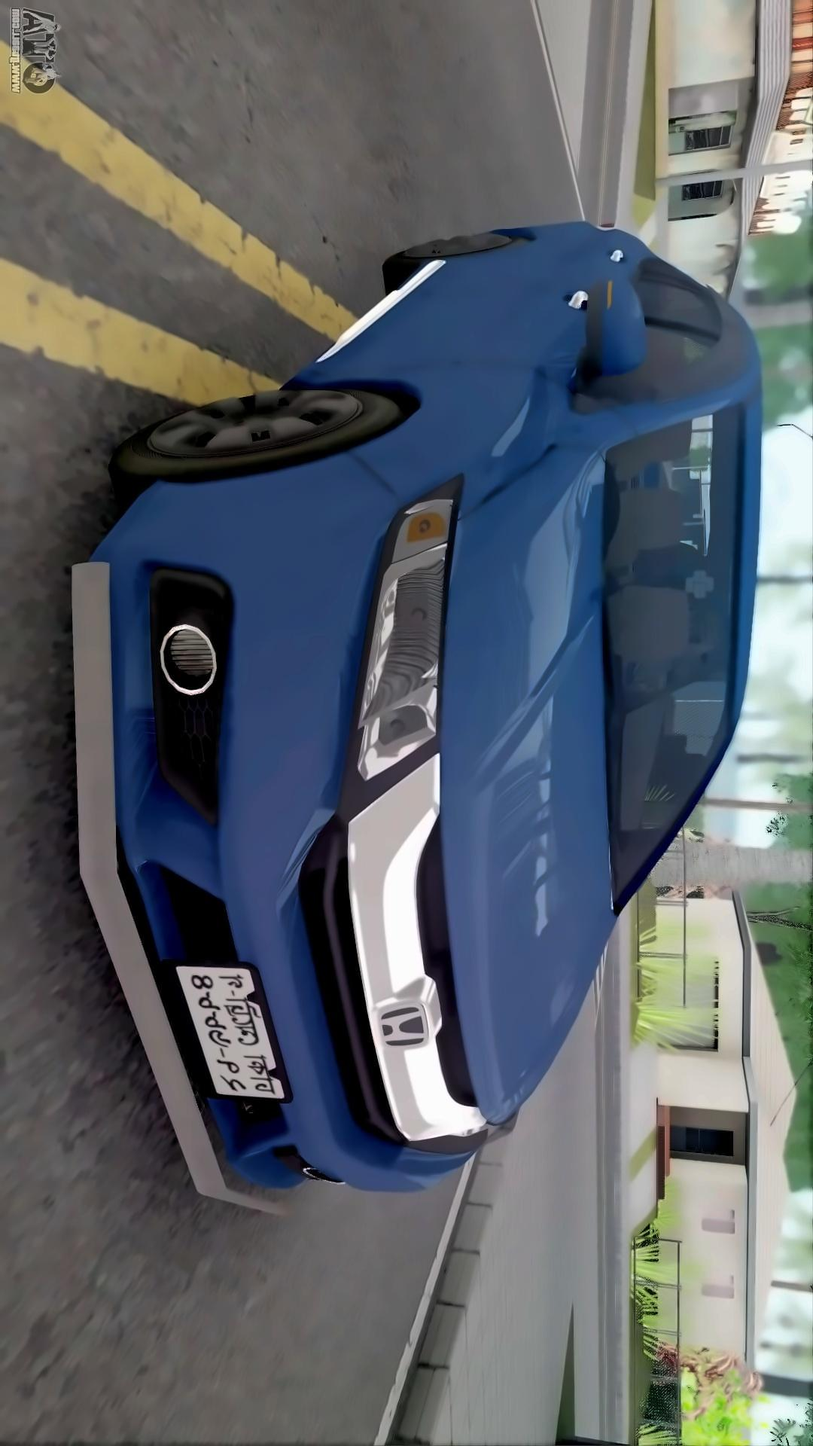Car hood: (433, 435, 619, 1127)
Driver-s door - -F-R-: (331, 281, 748, 397)
Fender - -F-R-: (281, 364, 640, 503)
Front bumper: (55, 463, 419, 1211)
Headlight - -L-: (433, 1090, 518, 1161)
Headlight - -R-: (337, 465, 471, 792)
Passenger-s door - -R-R-: (384, 230, 744, 314)
Rear light - -R-: (584, 187, 638, 239)
Side bumper - -R-: (269, 243, 453, 397)
Side mirror - -R-: (567, 271, 654, 417)
